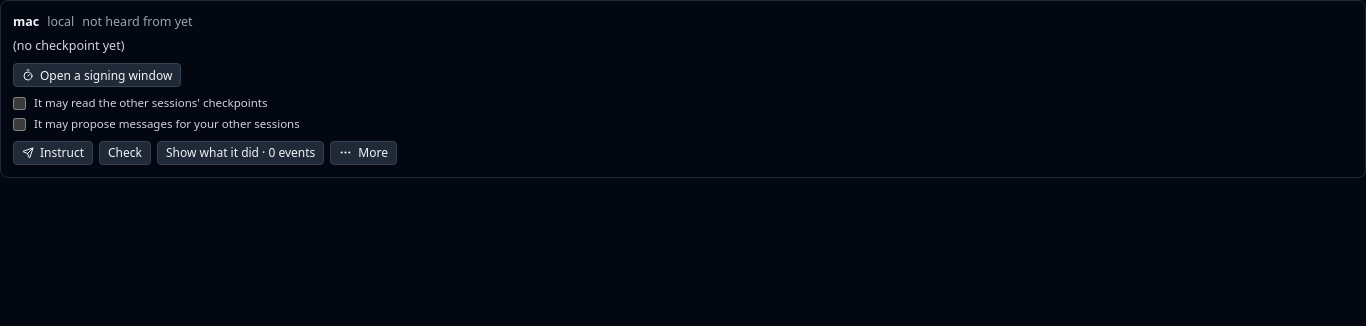
Test: the signing window on a link's card › makes the window again when its preparation is more than half a minute old, so it opens for its whole length
Click the button "Open a signing window" at [97, 75], box [13,63,181,87]
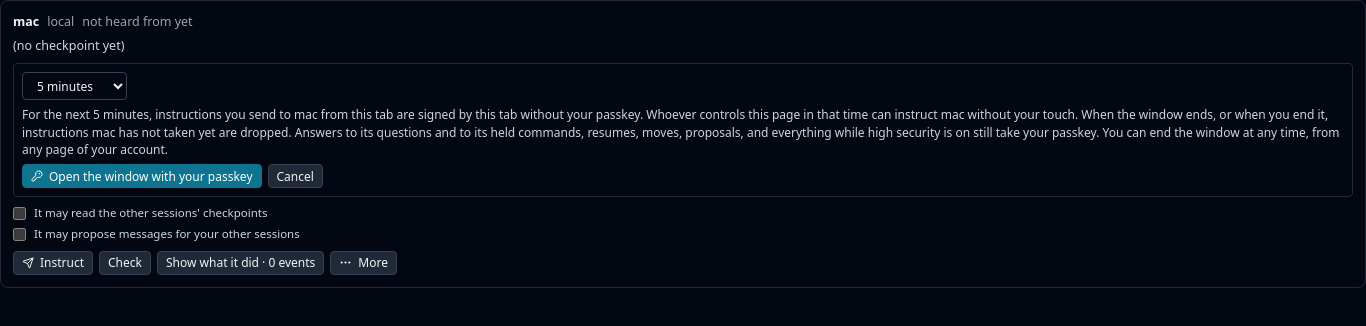
Check: the button "Open the window with your passkey" is enabled
Click the button "Open the window with your passkey" at [142, 176], box [22,164,262,188]
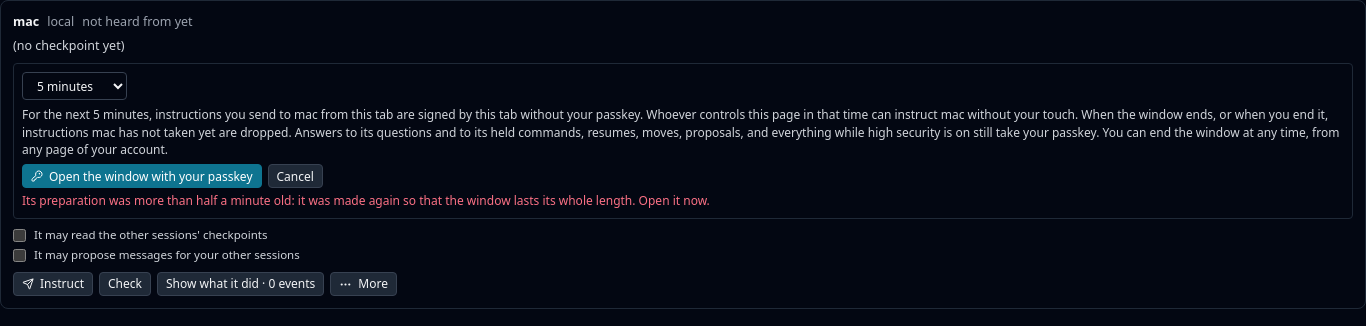
Check: the text "made again so that the window lasts its whole length" is shown, box [22,192,710,209]
